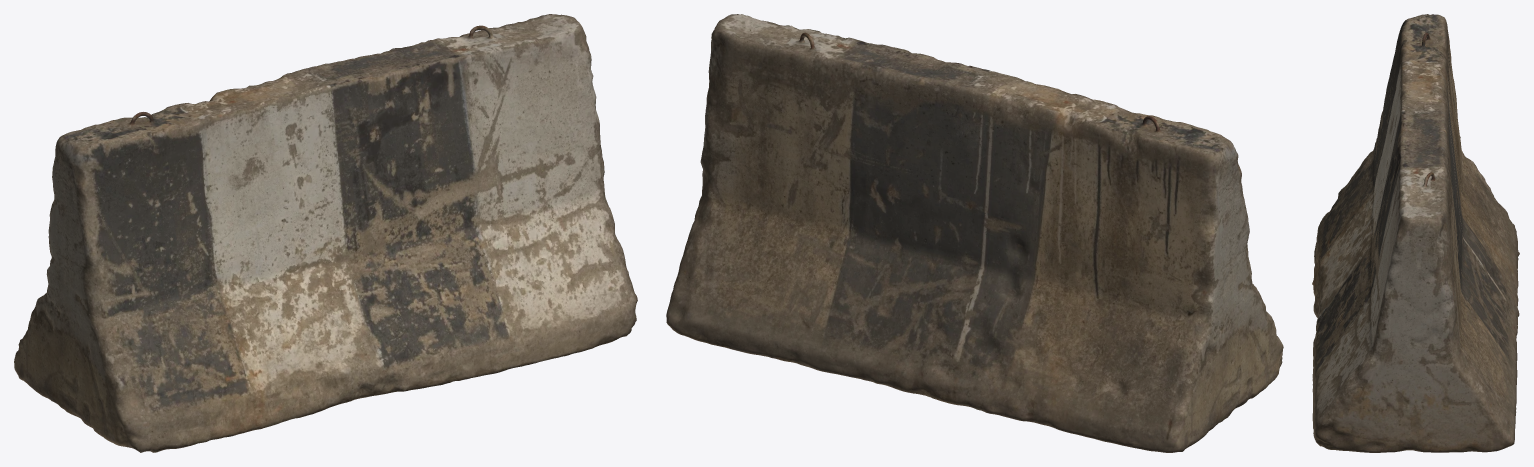
Rendered from concrete_road_barrier.glb.
3 views of the same model, side by side, from view 1: azimuth 30°, elevation 25°; view 2: azimuth 150°, elevation 25°; view 3: azimuth 270°, elevation 25° (orthographic). The views are drawn at different scales.
Visible parts, largest first — view 1: concrete_road_barrier; view 2: concrete_road_barrier; view 3: concrete_road_barrier.
Part boxes in pixels (x1,y1,x2,y2): concrete_road_barrier: (14,14,637,452); concrete_road_barrier: (666,14,1283,452); concrete_road_barrier: (1312,14,1519,452).
Bounding box in the file's own units: 1.55 × 0.831 × 0.6387.
1 material, 1 textured.
